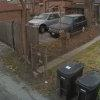Car: (22, 9, 87, 45)
